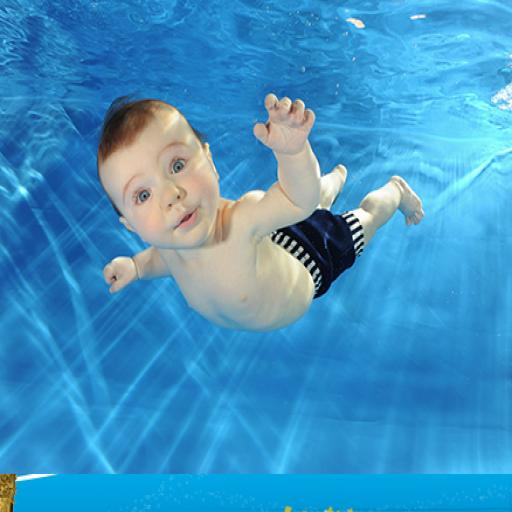swimming: (93, 89, 428, 336)
